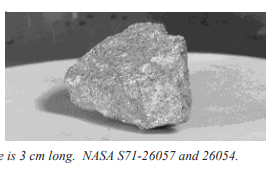Basalt: (50, 12, 206, 130)
